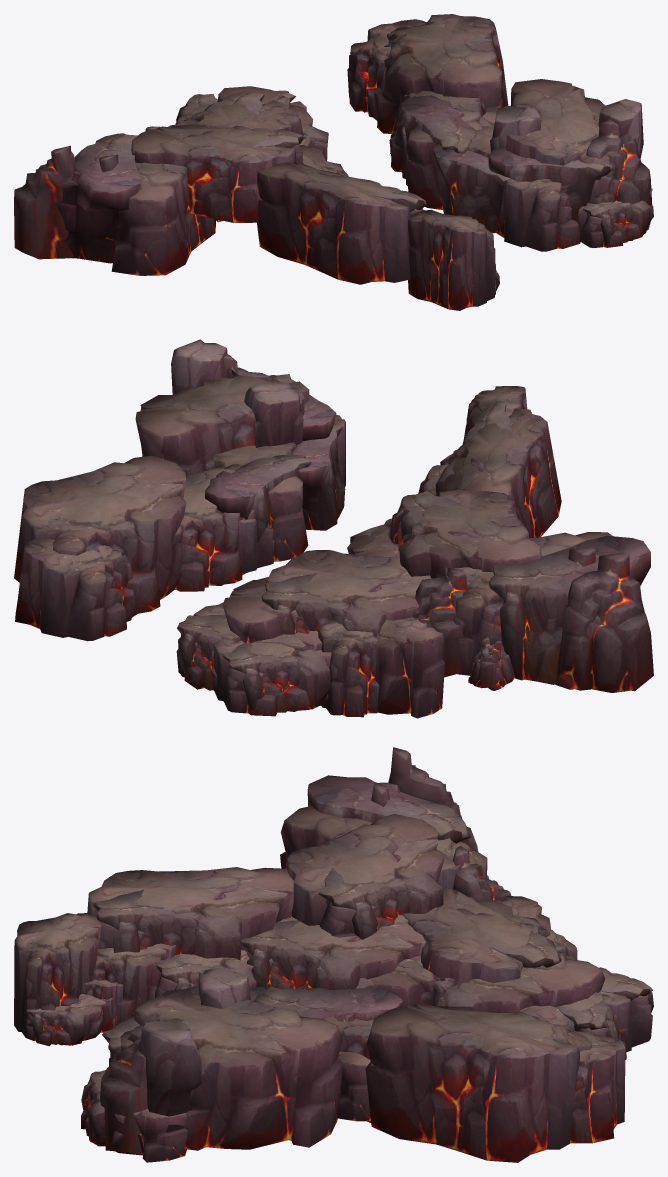
File: yanshi14_1.fbx
The picture shows the model from 3 angles, top to bottom: view 1: azimuth 30°, elevation 25°; view 2: azimuth 150°, elevation 25°; view 3: azimuth 270°, elevation 25°; orthographic projection. The views are drawn at different scales.
Visible parts, largest first — view 1: yanshi14_1; view 2: yanshi14_1; view 3: yanshi14_1.
Part boxes in pixels (left/top/right/bottom): yanshi14_1: left=14, top=14, right=653, bottom=310; yanshi14_1: left=14, top=339, right=653, bottom=718; yanshi14_1: left=14, top=747, right=653, bottom=1162.
Bounding box in the file's own units: 7069 × 1712 × 6235.
